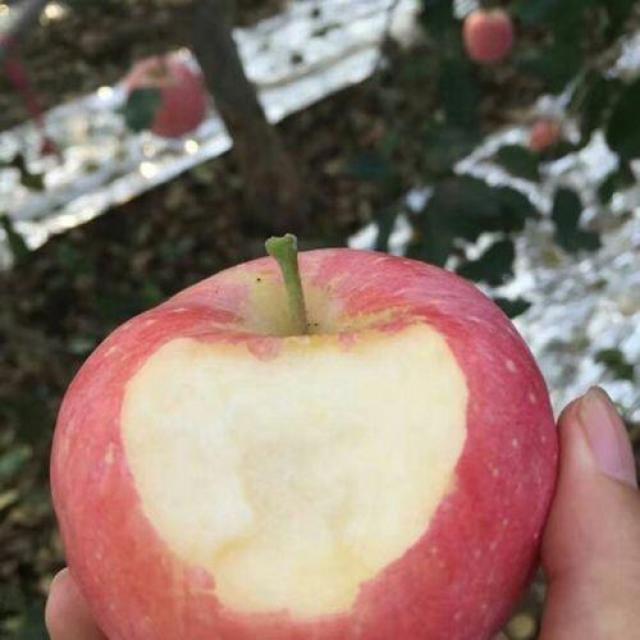Rotten: (62, 252, 556, 640)
